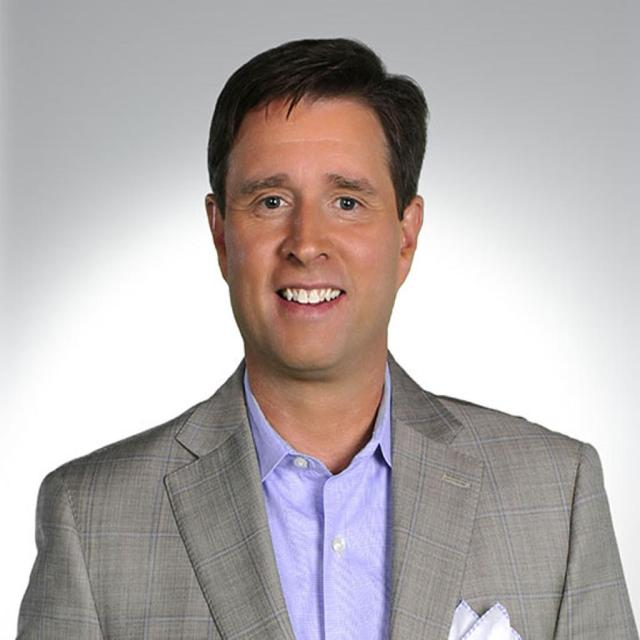Face: (218, 76, 417, 385)
